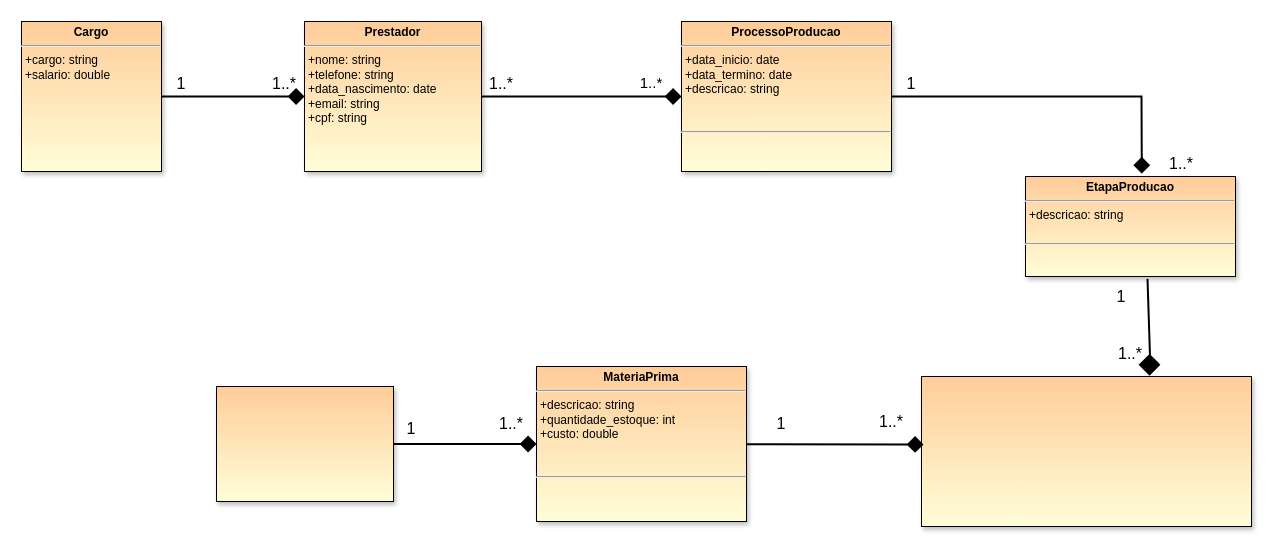
This 1275x551 diagram has some shape labels left out. Each missing label, with the centre of its shape:
"MateriaEtapa +quantidade_utilizada: int" belongs at pixel 1087 453.
"UnidadeMedida +unidade_medida: string" belongs at pixel 306 445.
